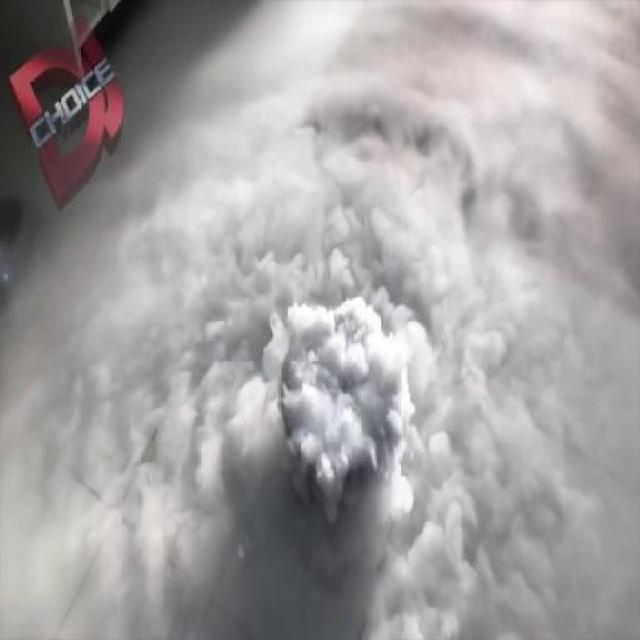smoke: (142, 154, 572, 554)
